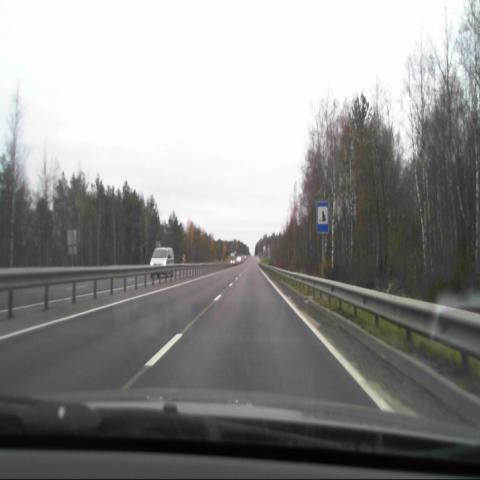7_11: (316, 200, 329, 235)
